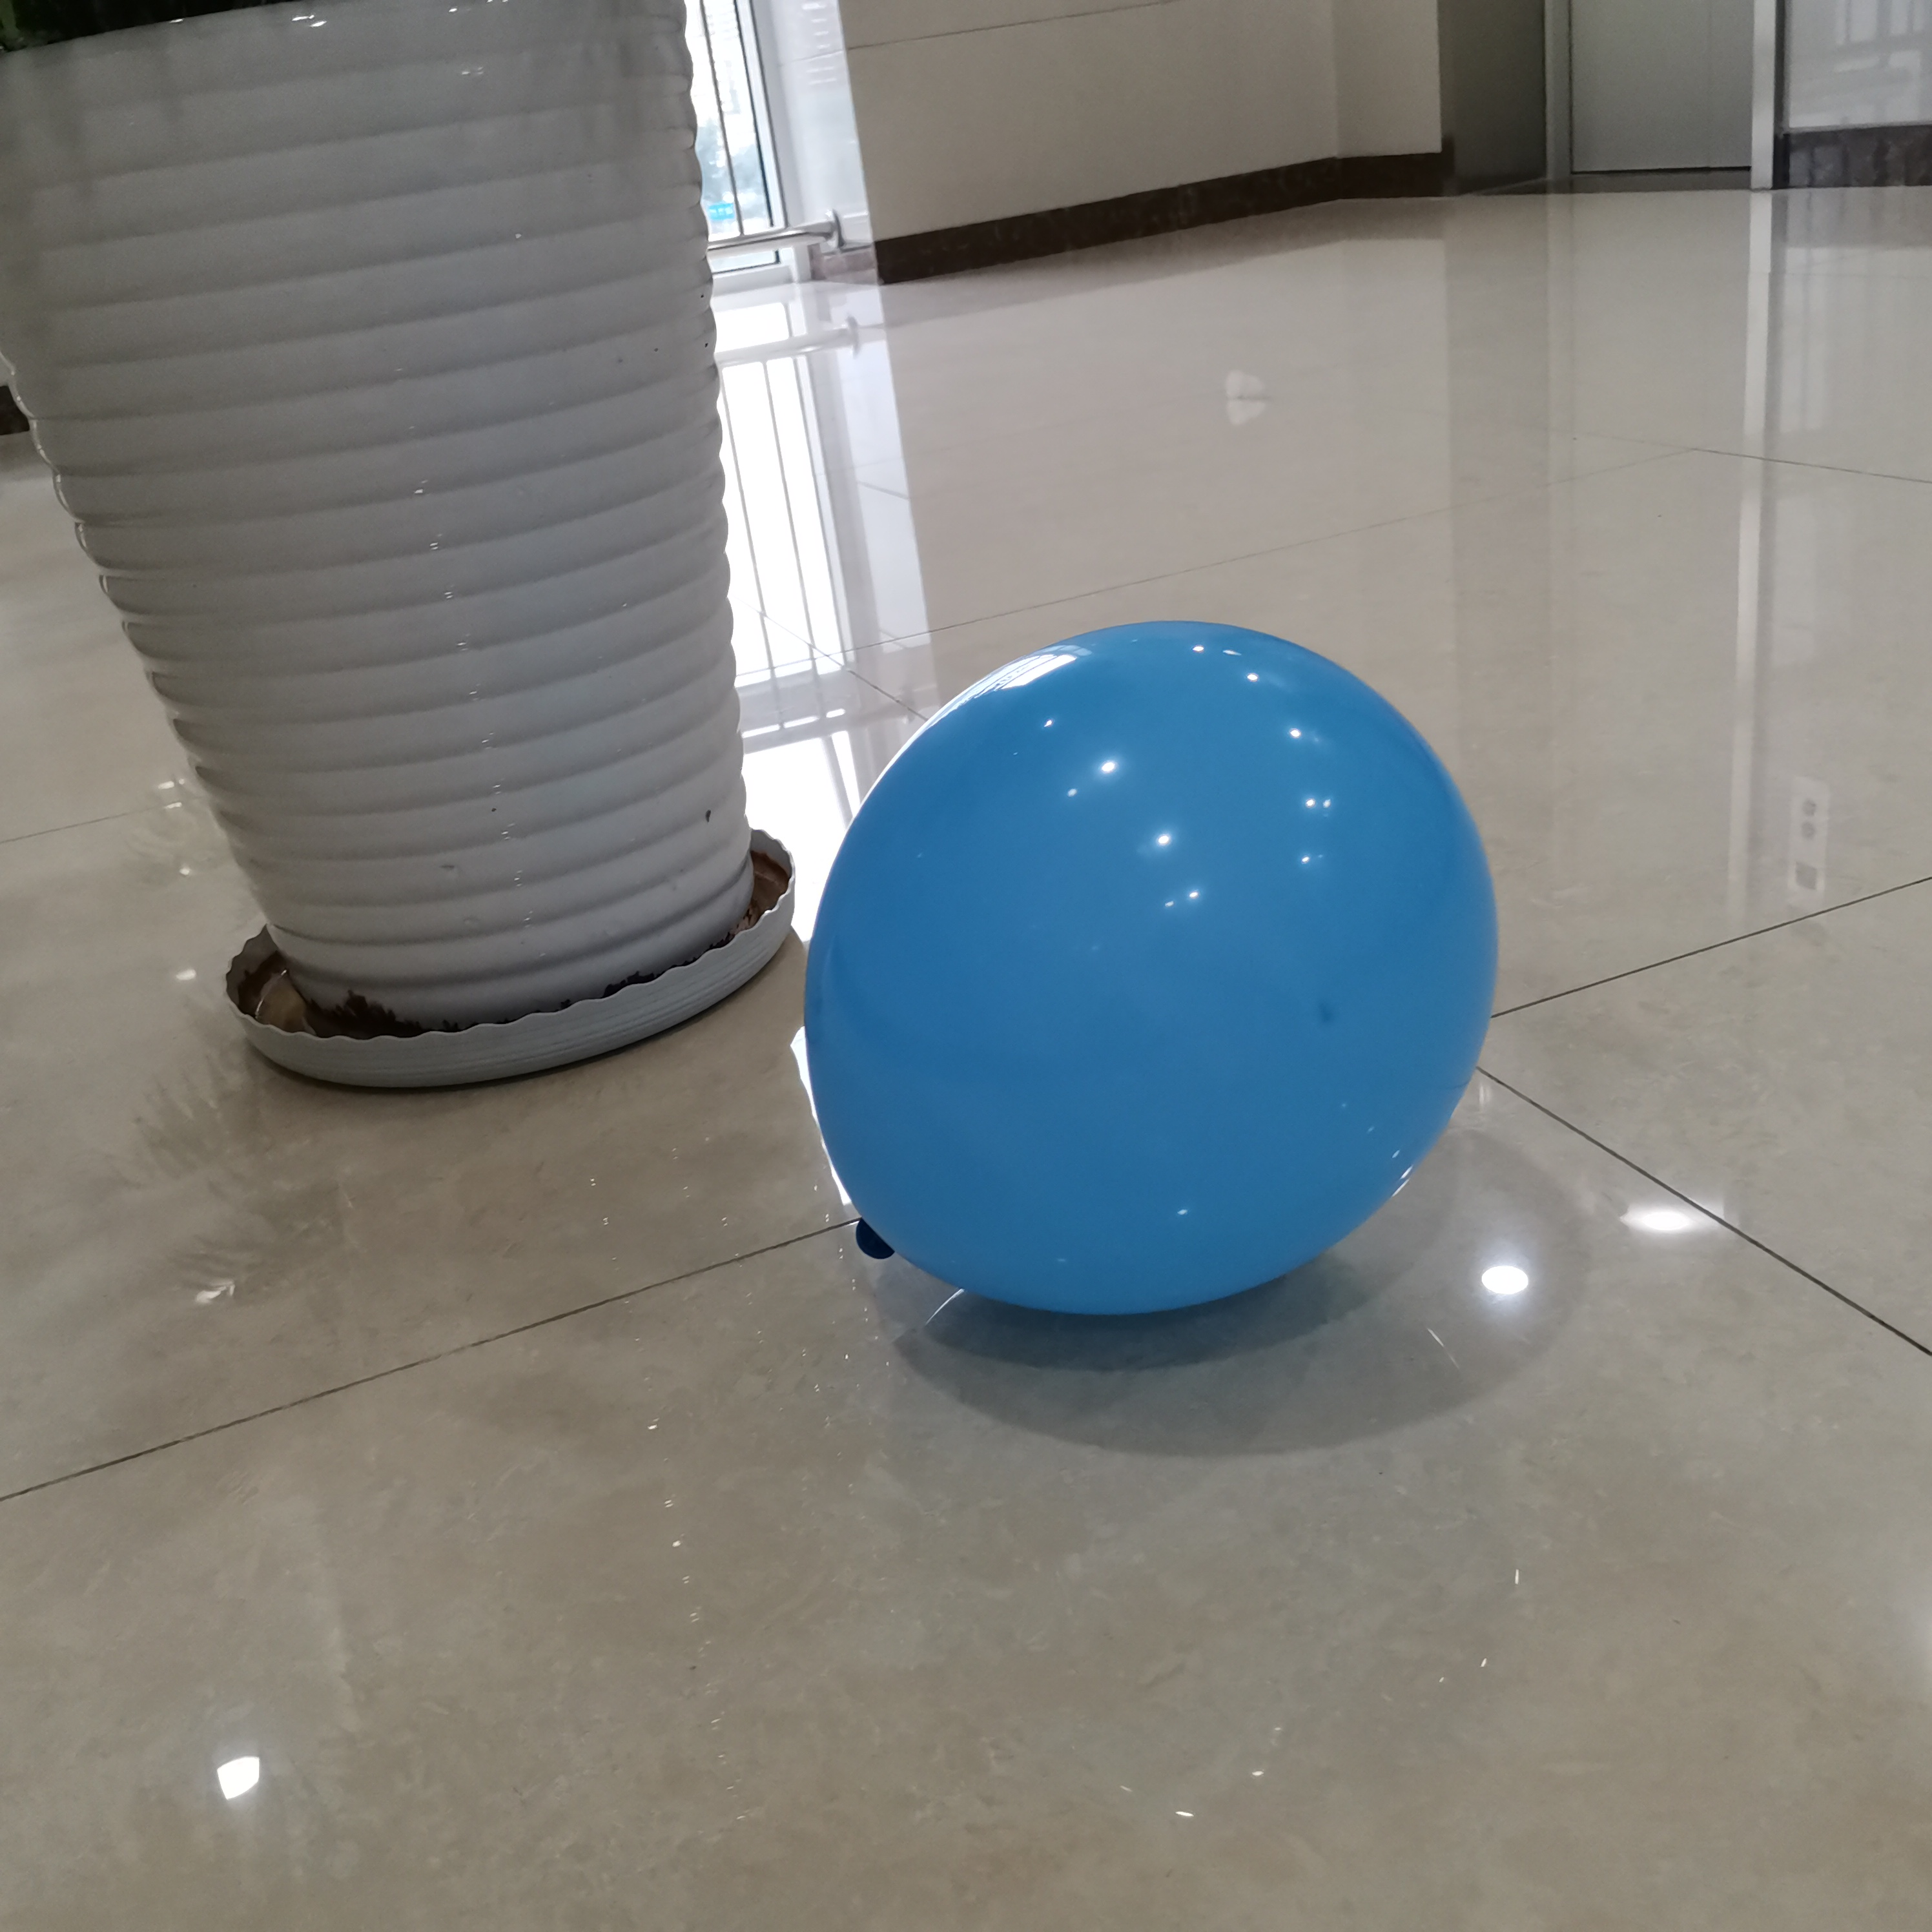balloon: (801, 616, 1500, 1313)
